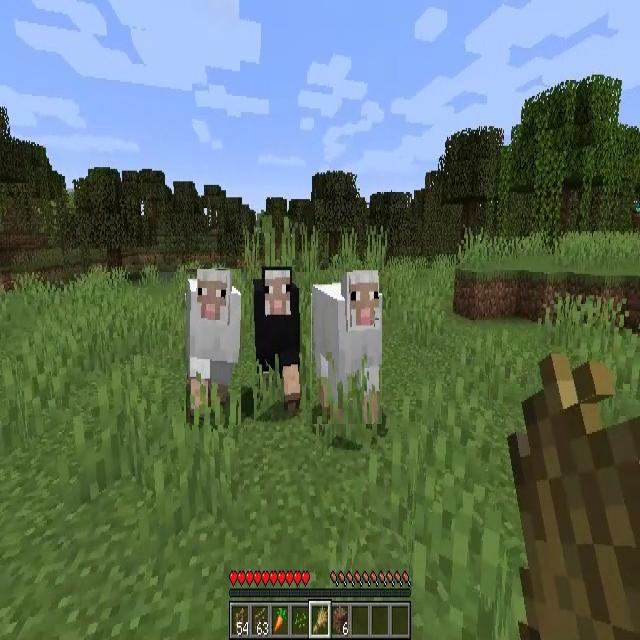sheep: (312, 270, 382, 424), (186, 269, 241, 425), (253, 268, 300, 406)
